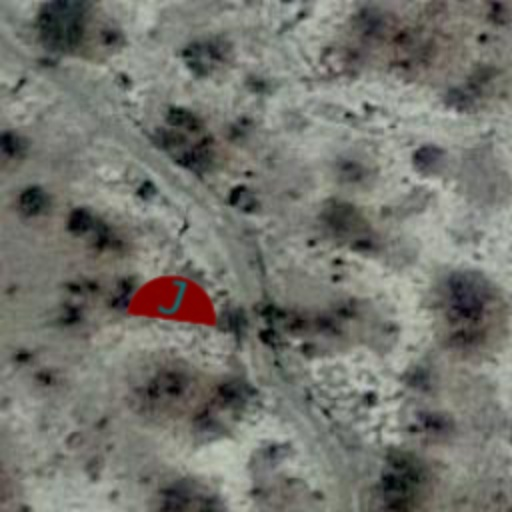semicircle: (122, 246, 226, 350)
